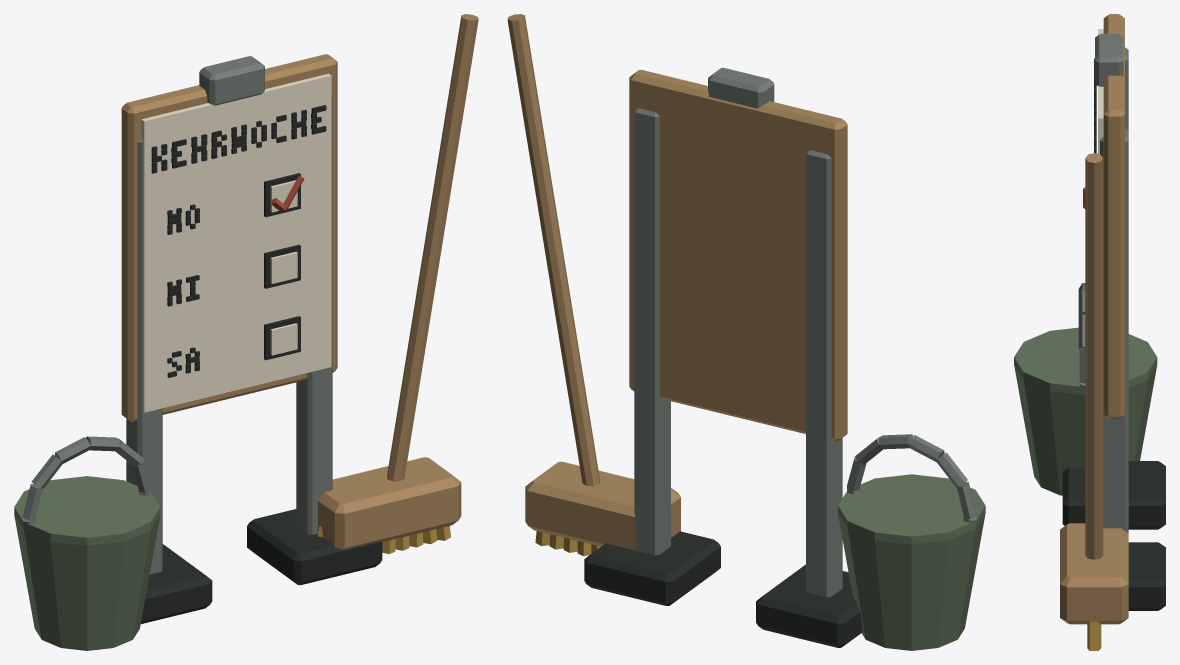
File: kehrwoche-set.glb
3 renders of one model, left to right at view 1: azimuth 30°, elevation 25°; view 2: azimuth 150°, elevation 25°; view 3: azimuth 270°, elevation 25°, orthographic. The views are drawn at different scales.
Visible parts, largest first — view 1: kehrwoche-set; view 2: kehrwoche-set; view 3: kehrwoche-set.
Part boxes in pixels (x1=…): kehrwoche-set: x1=14, y1=14, x2=478, y2=650; kehrwoche-set: x1=507, y1=14, x2=985, y2=650; kehrwoche-set: x1=1014, y1=14, x2=1165, y2=650.
Size of the model in its own units: 1.81 by 1.95 by 0.53.
